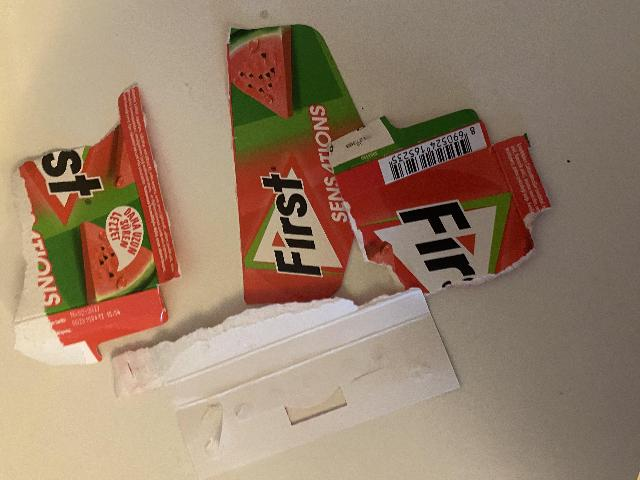Kagit: (94, 314, 471, 478), (324, 75, 567, 290), (0, 86, 176, 352), (205, 17, 368, 300)
